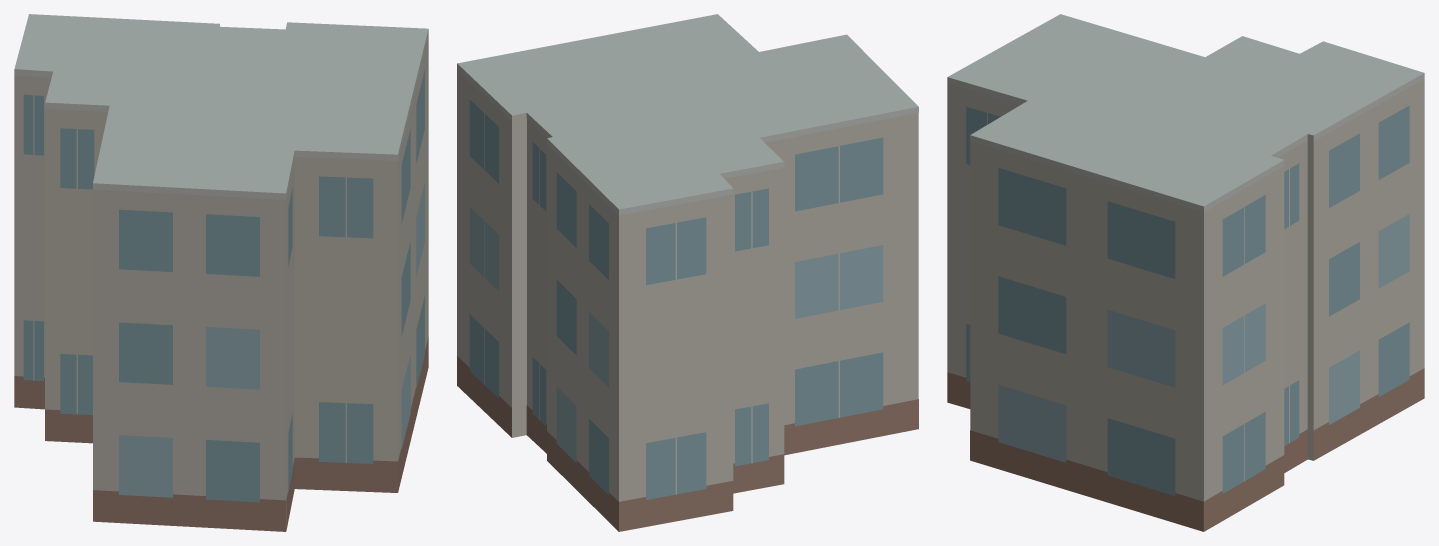
The model's file is survey-upis-32473162.glb.
3 views of the same model, side by side, from view 1: azimuth 30°, elevation 25°; view 2: azimuth 150°, elevation 25°; view 3: azimuth 270°, elevation 25° (orthographic). The views are drawn at different scales.
Visible parts, largest first — view 1: survey-upis-32473162.tmp; view 2: survey-upis-32473162.tmp; view 3: survey-upis-32473162.tmp.
Boxes of the visible parts, x1,y1,x2,y2 form: survey-upis-32473162.tmp: (14,14,428,531); survey-upis-32473162.tmp: (457,14,918,531); survey-upis-32473162.tmp: (947,14,1424,531).
Bounding box in the file's own units: 16.94 × 13.35 × 17.76.
